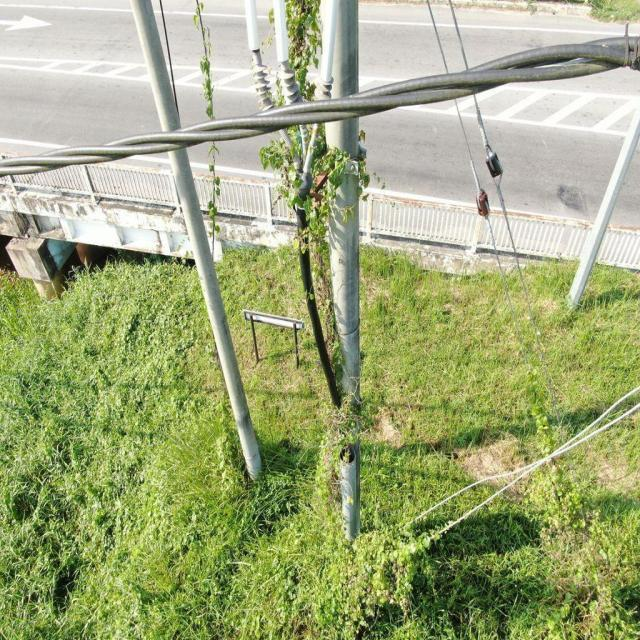critical vegetation: (250, 29, 372, 544), (196, 14, 226, 263)
